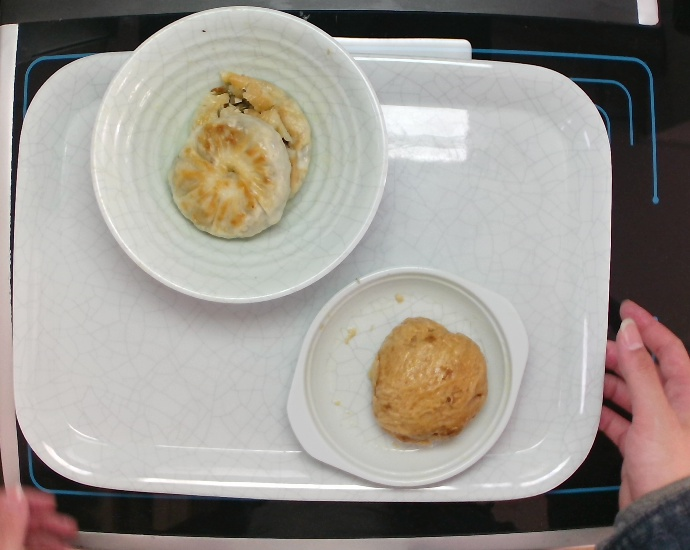JYsf-Shuang_Er_Pan: (284, 263, 531, 488)
JYsf-Xiao_Tang_Wan: (87, 4, 390, 306)
